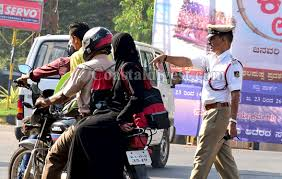helmet: (81, 25, 112, 60)
